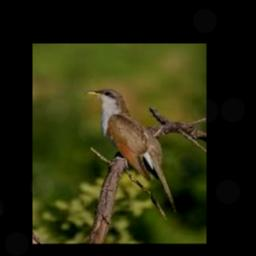Cuckoo: (85, 88, 176, 211)
